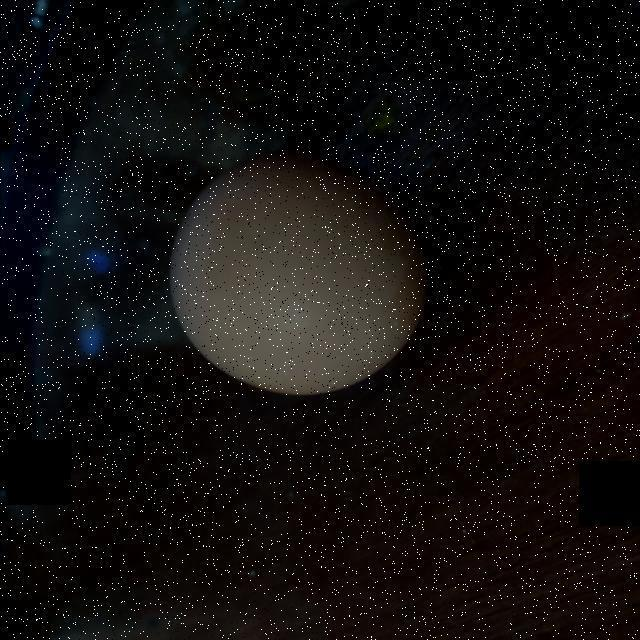egg: (165, 144, 430, 402)
